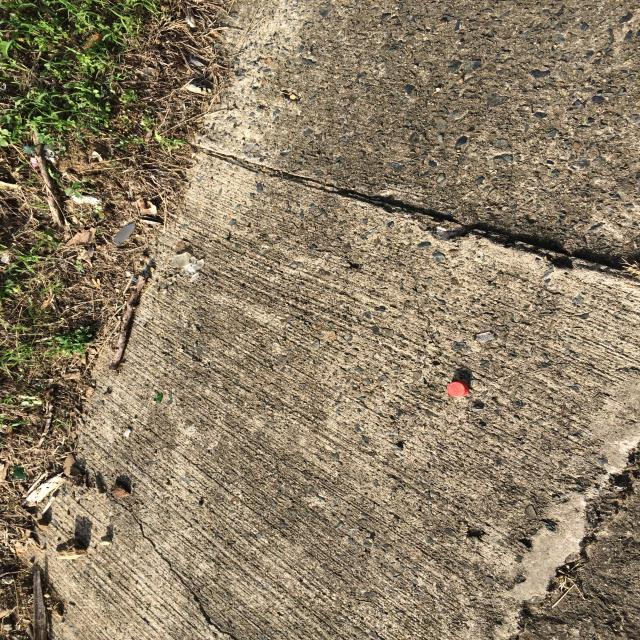litter: (444, 380, 470, 400)
